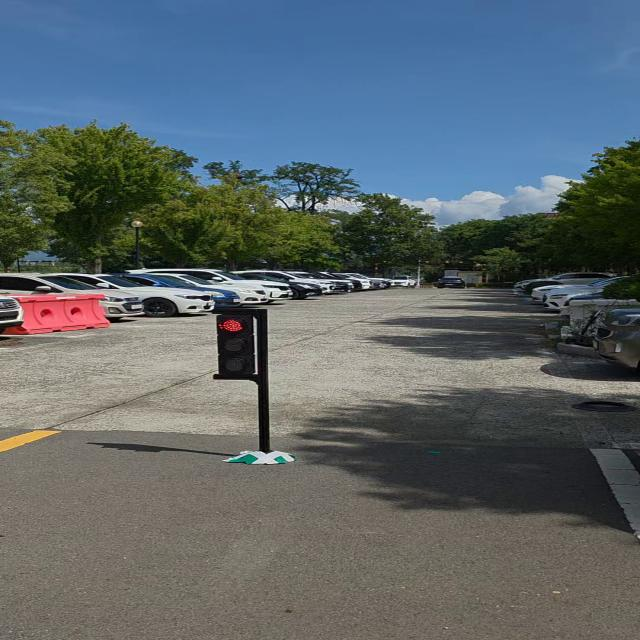red: (214, 308, 256, 379)
